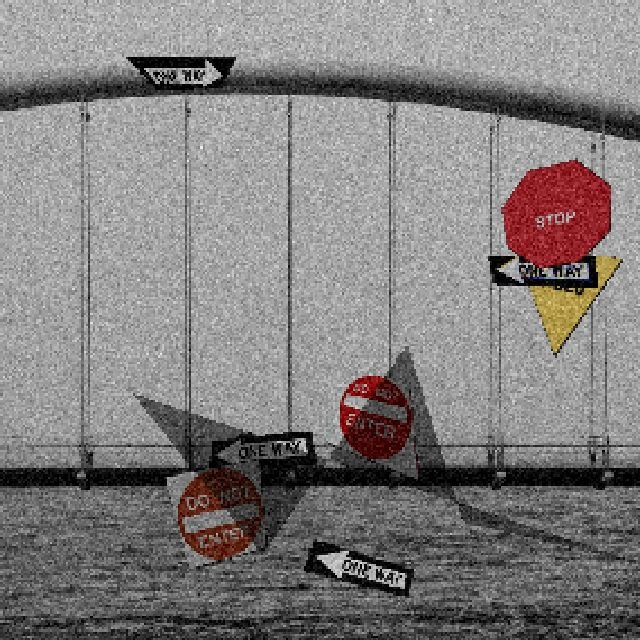DO_NOT_ENTER: (162, 457, 265, 568), (323, 369, 418, 480)
NOT_YIELD: (512, 244, 622, 355)
ONE_WAY_ left: (301, 537, 412, 596), (205, 428, 316, 471), (486, 253, 597, 287)
ONE_WAY_ right: (123, 54, 234, 89)
STOP: (499, 157, 610, 267)
